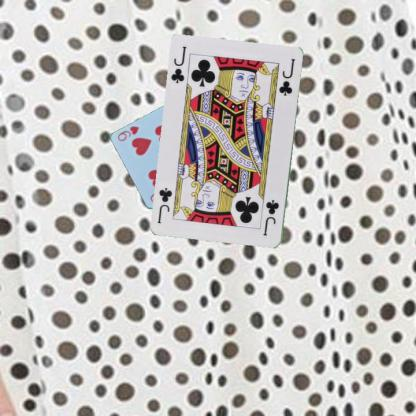Jc: (168, 44, 187, 85), (261, 198, 280, 238)
